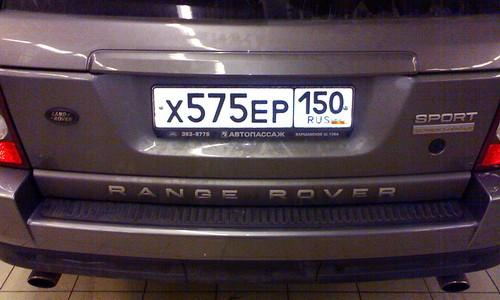license-plateSW: (149, 84, 352, 128)
